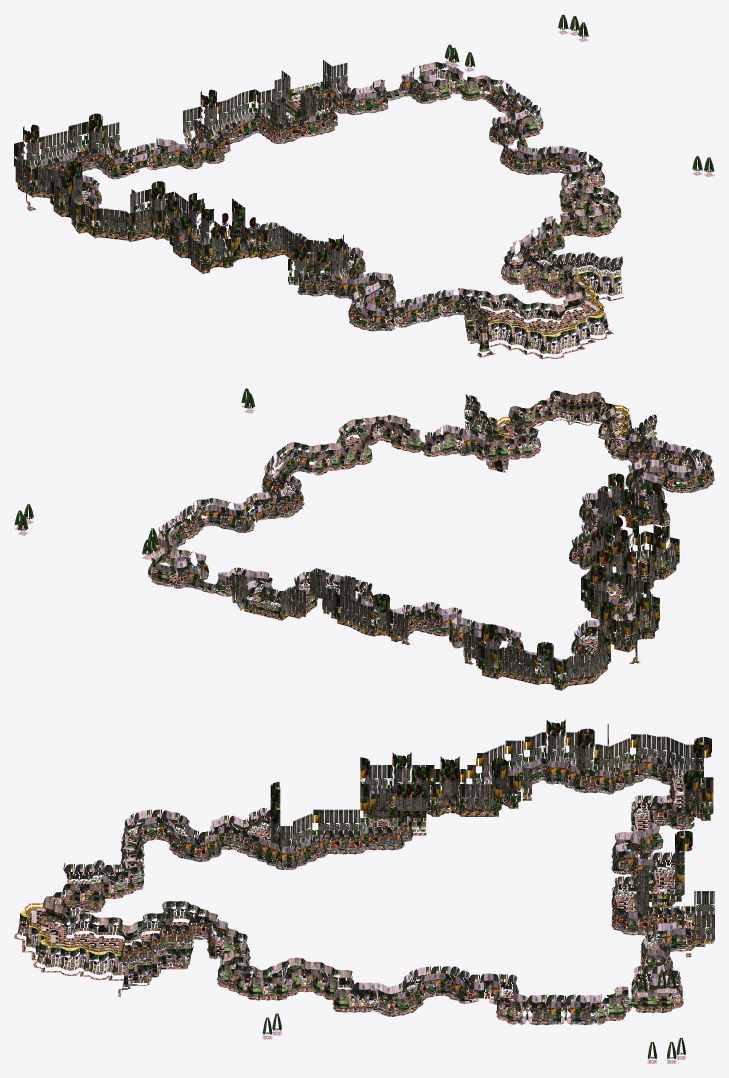
The picture shows the model from 3 angles, top to bottom: view 1: azimuth 30°, elevation 25°; view 2: azimuth 150°, elevation 25°; view 3: azimuth 270°, elevation 25°; orthographic projection. The views are drawn at different scales.
Visible parts, largest first — view 1: no part large enough to name; view 2: no part large enough to name; view 3: T1L2M005_524.
Part boxes in pixels (x1,y1,x2,y2): T1L2M005_524: [442, 767, 455, 813].
Size of the model in its own units: 316 by 34.56 by 291.
